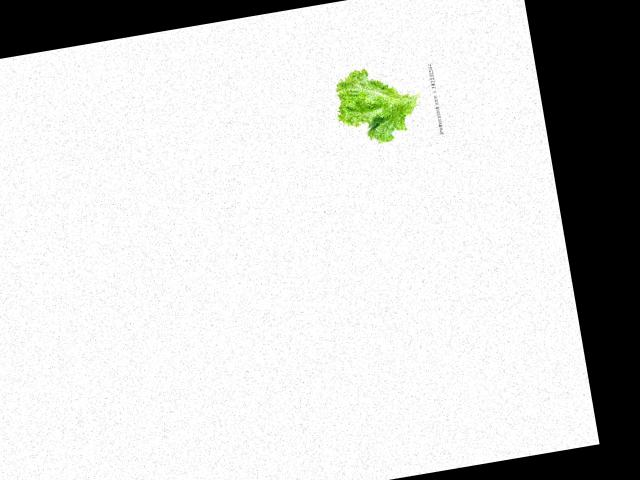lettuce: (328, 59, 433, 152)
